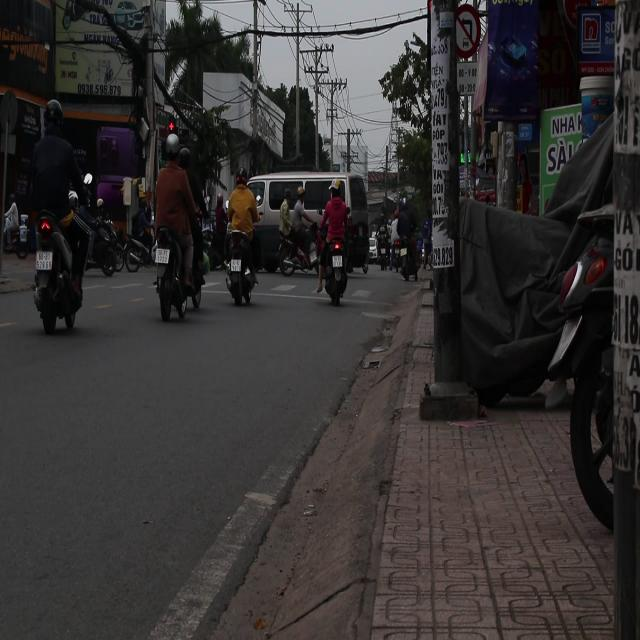motorbike: (29, 204, 86, 337), (153, 219, 196, 328), (223, 229, 259, 306), (85, 210, 125, 278), (320, 223, 348, 309), (2, 198, 32, 258), (377, 231, 392, 271)
truck: (246, 169, 374, 264)
